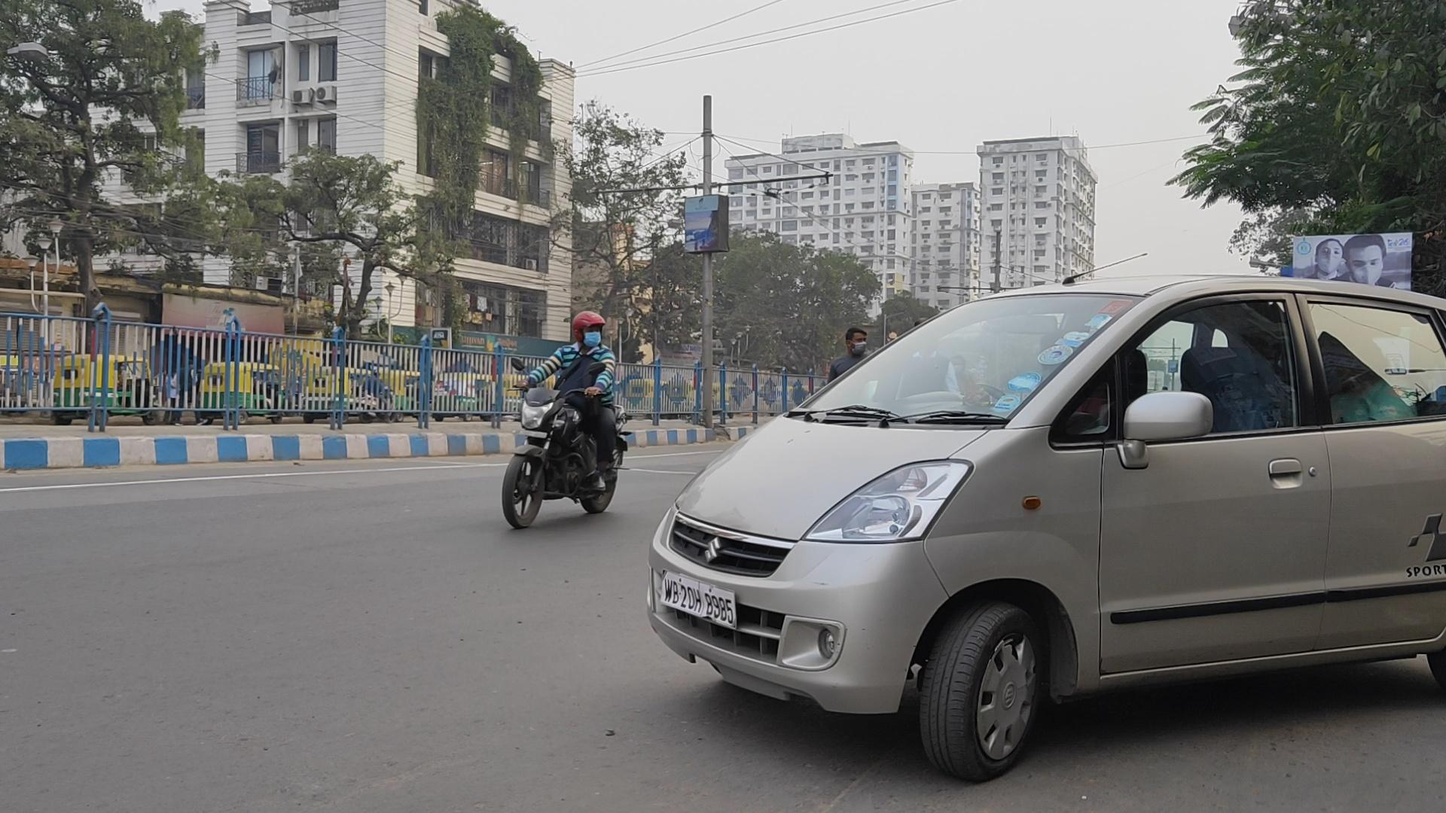bike: (502, 310, 633, 530)
car: (647, 275, 1446, 781)
